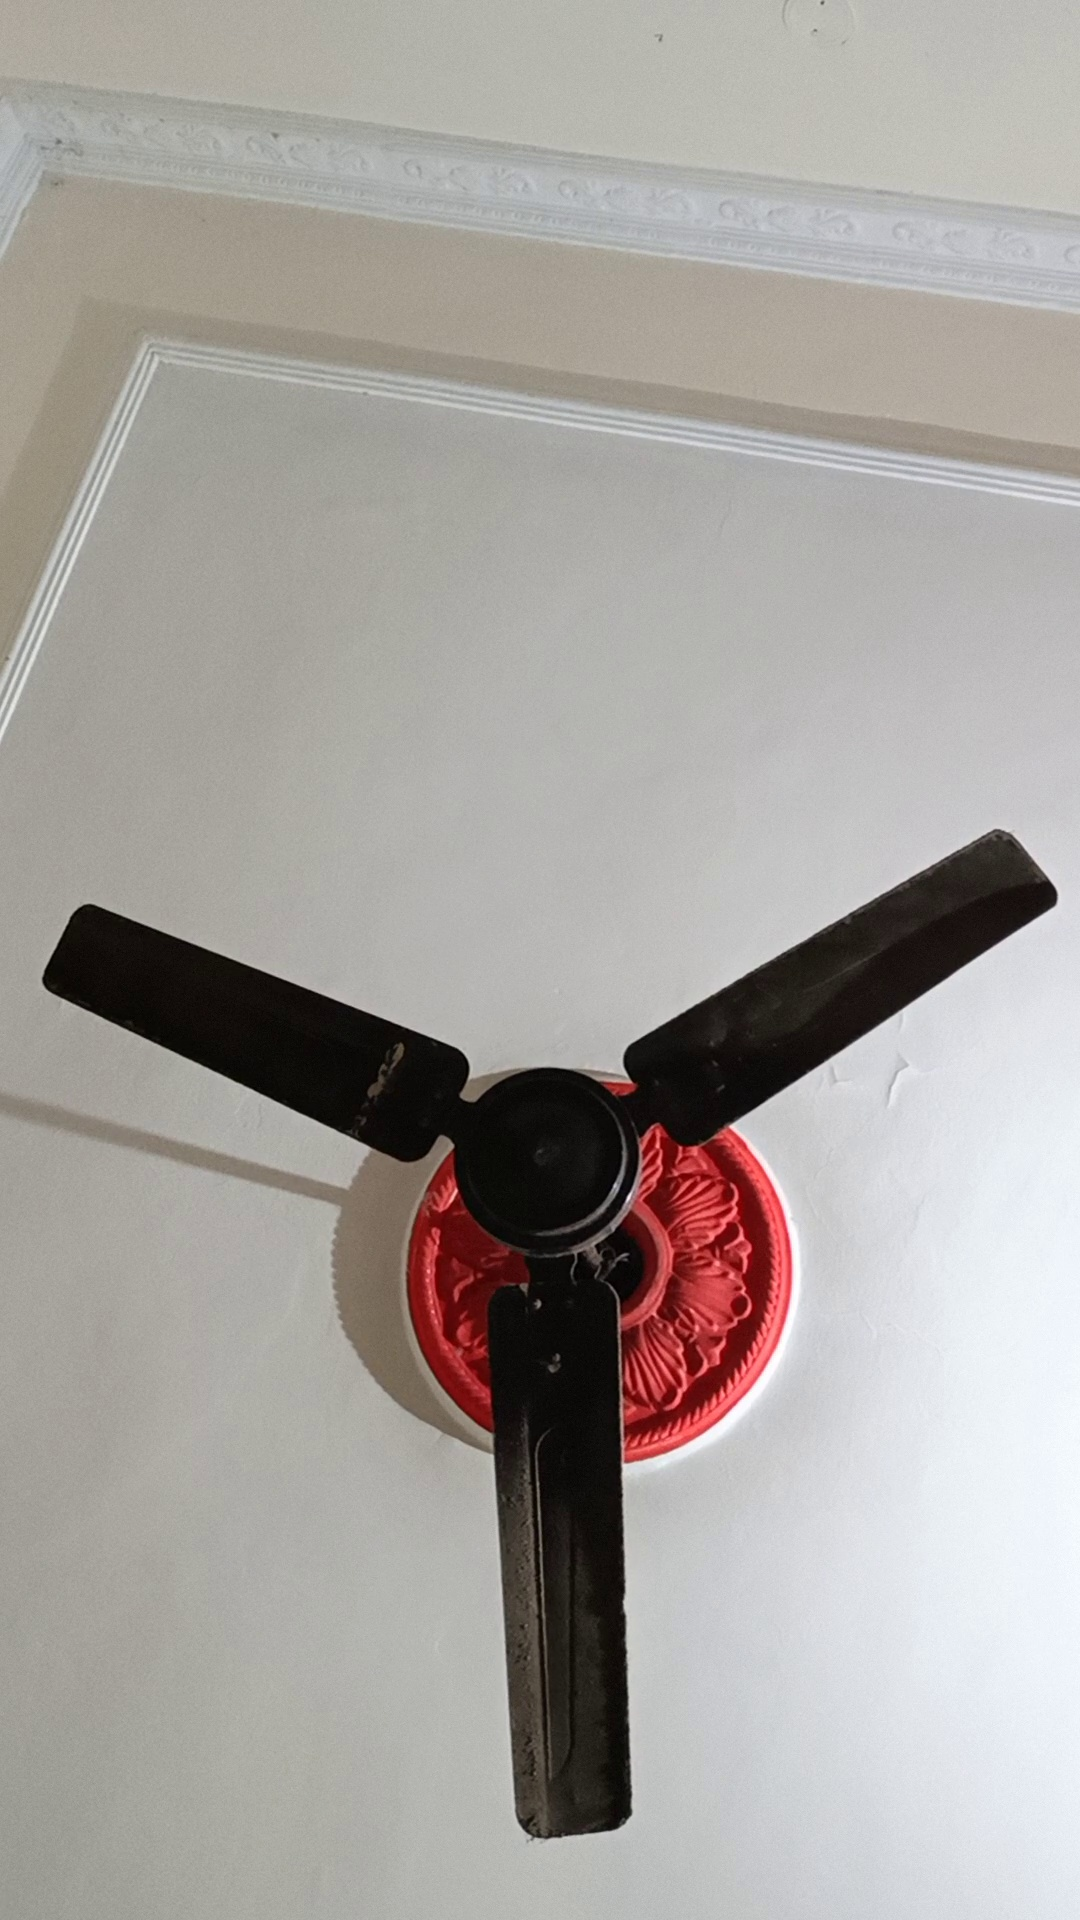fan: (37, 891, 1080, 1859)
